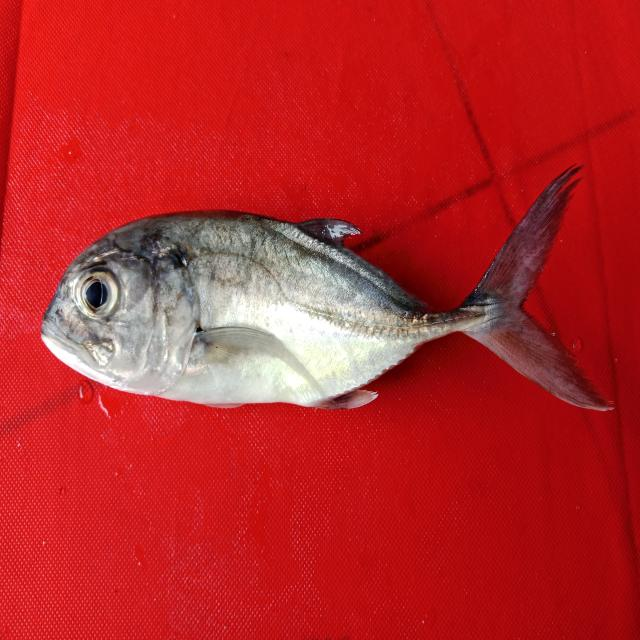ikan: (21, 143, 621, 451)
